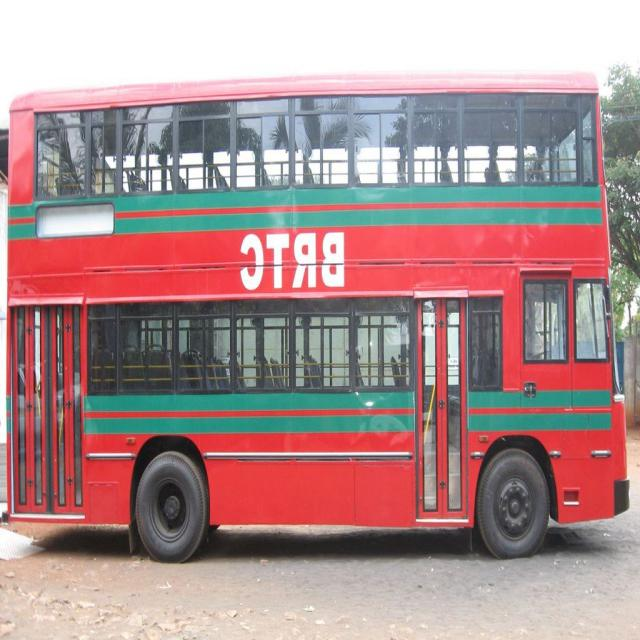Double decker: (1, 48, 637, 581)
